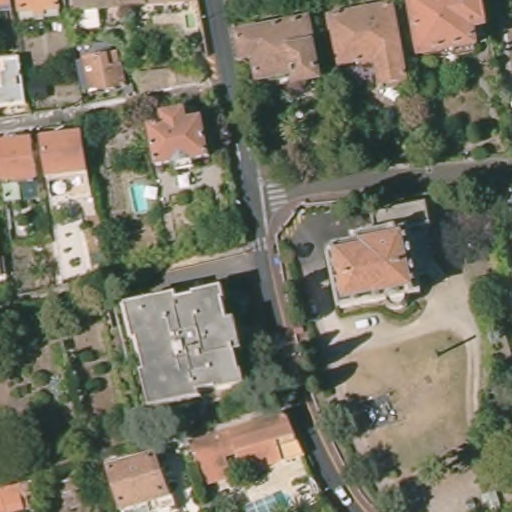pool: (234, 487, 295, 510), (128, 181, 159, 220)
